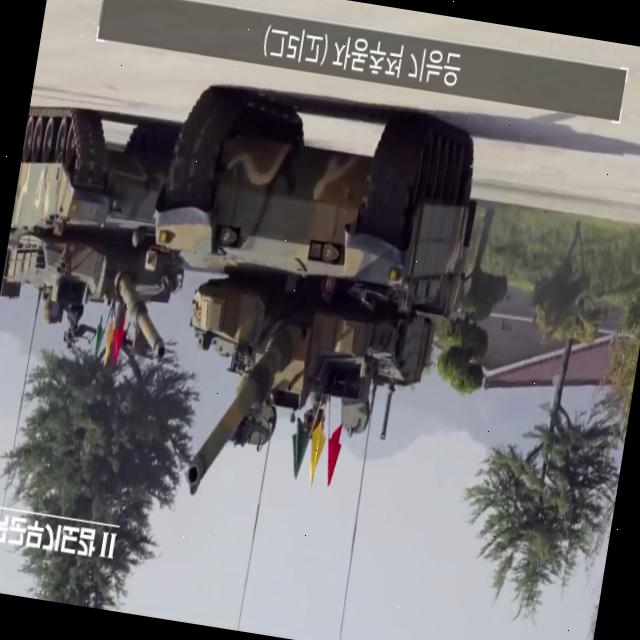korea tank: (110, 68, 500, 536)
